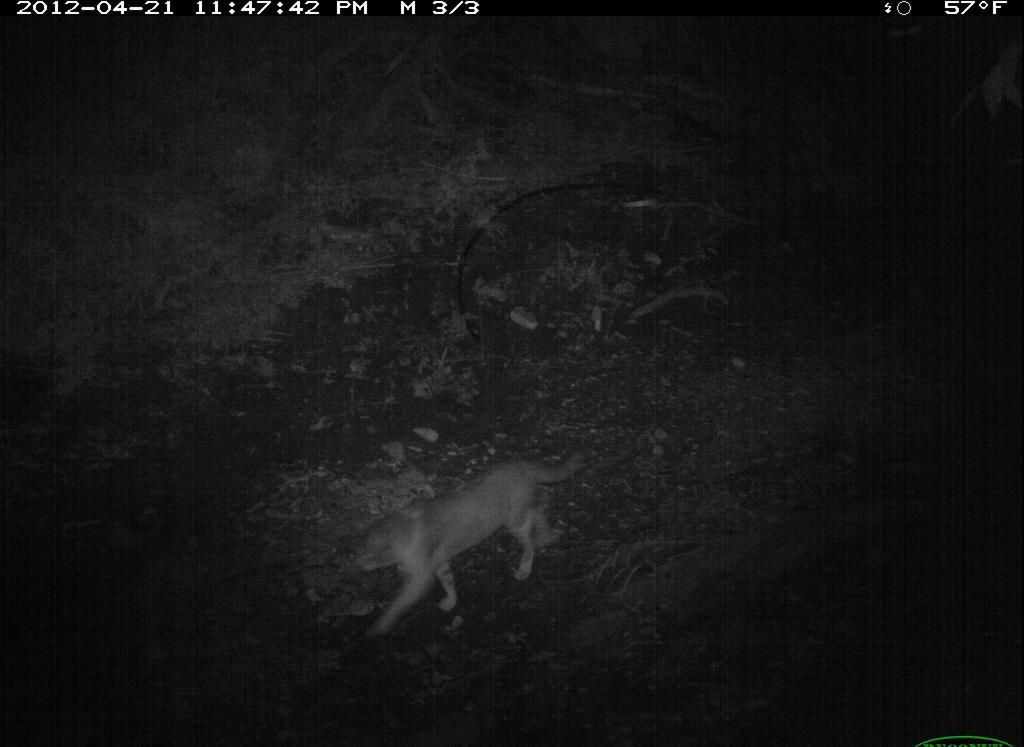cat: (349, 433, 601, 649)
